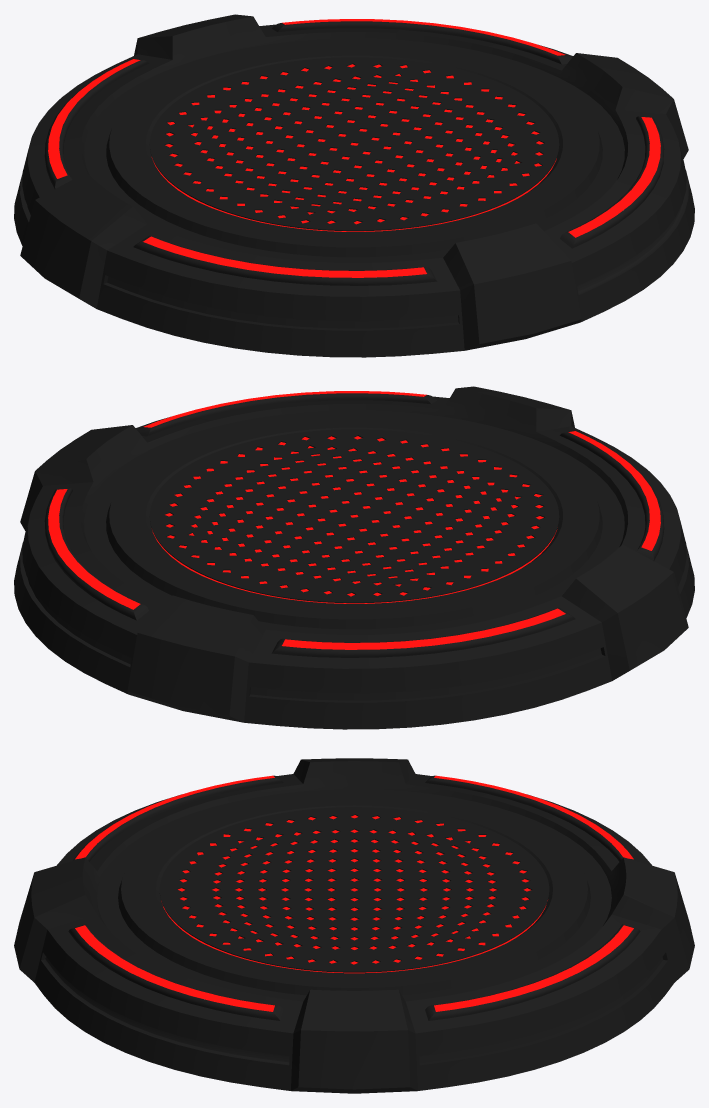
File: Platform.glb
The picture shows the model from 3 angles, top to bottom: view 1: azimuth 30°, elevation 25°; view 2: azimuth 150°, elevation 25°; view 3: azimuth 270°, elevation 25°; orthographic projection. The views are drawn at different scales.
Visible parts, largest first — view 1: tech_pedestal; view 2: tech_pedestal; view 3: tech_pedestal.
Boxes of the visible parts, <box> form: tech_pedestal: <box>14,14,694,357</box>; tech_pedestal: <box>14,386,694,729</box>; tech_pedestal: <box>14,758,694,1093</box>.
Size of the model in its own units: 1.4 by 0.1806 by 1.4.
